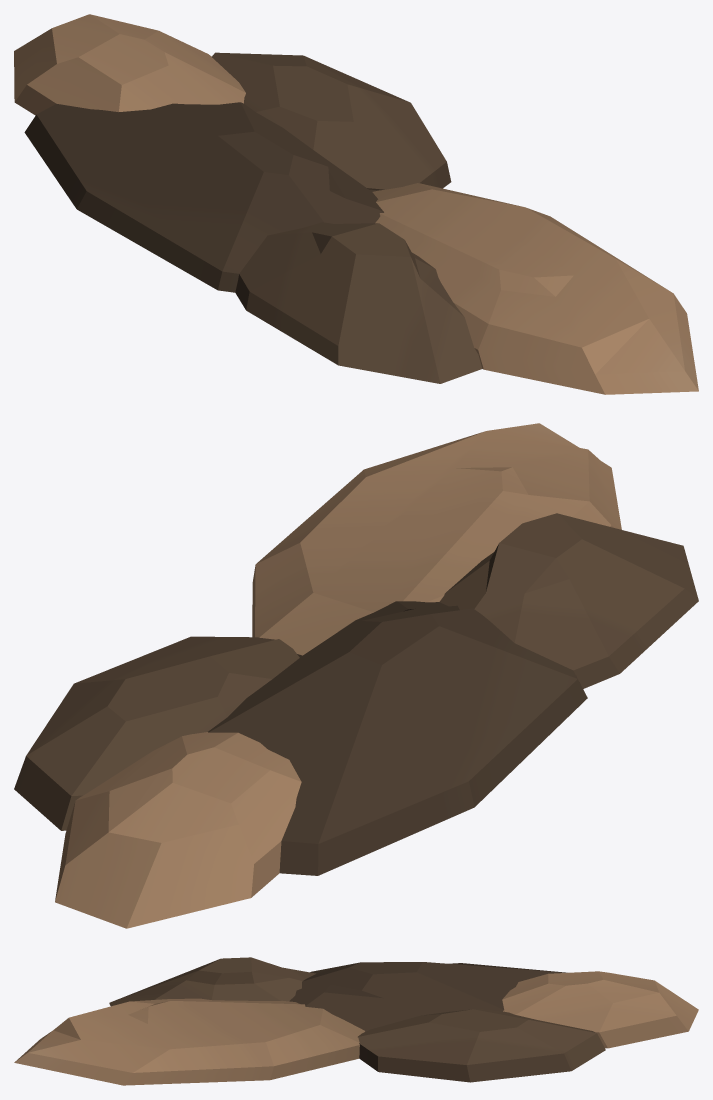
Rendered from ea_swamp_grass_hill_dead_01b_pre__4__lev1.glb.
The picture shows the model from 3 angles, top to bottom: view 1: azimuth 30°, elevation 25°; view 2: azimuth 150°, elevation 25°; view 3: azimuth 270°, elevation 25°; orthographic projection. The views are drawn at different scales.
Visible parts, largest first — view 1: ea_swamp_grass_hill_dead_01b_pre__4__lev1; view 2: ea_swamp_grass_hill_dead_01b_pre__4__lev1; view 3: ea_swamp_grass_hill_dead_01b_pre__4__lev1.
Boxes of the visible parts, x1=… form: ea_swamp_grass_hill_dead_01b_pre__4__lev1: x1=14, y1=14, x2=698, y2=394; ea_swamp_grass_hill_dead_01b_pre__4__lev1: x1=14, y1=423, x2=698, y2=928; ea_swamp_grass_hill_dead_01b_pre__4__lev1: x1=14, y1=957, x2=698, y2=1085.
Size of the model in its own units: 2.46 by 0.4702 by 6.32.
Materials: 1 (1 with a texture image).
